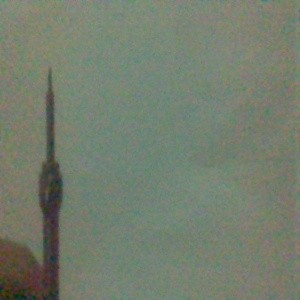solder: (37, 66, 64, 300)
